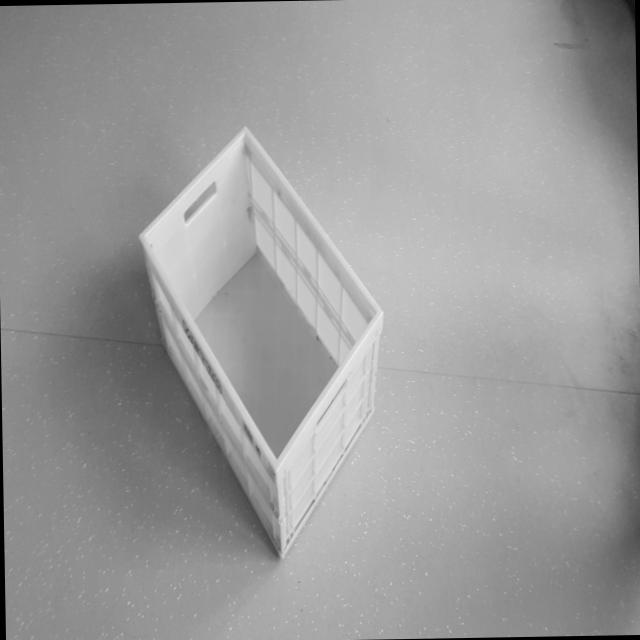box: (133, 108, 388, 582)
